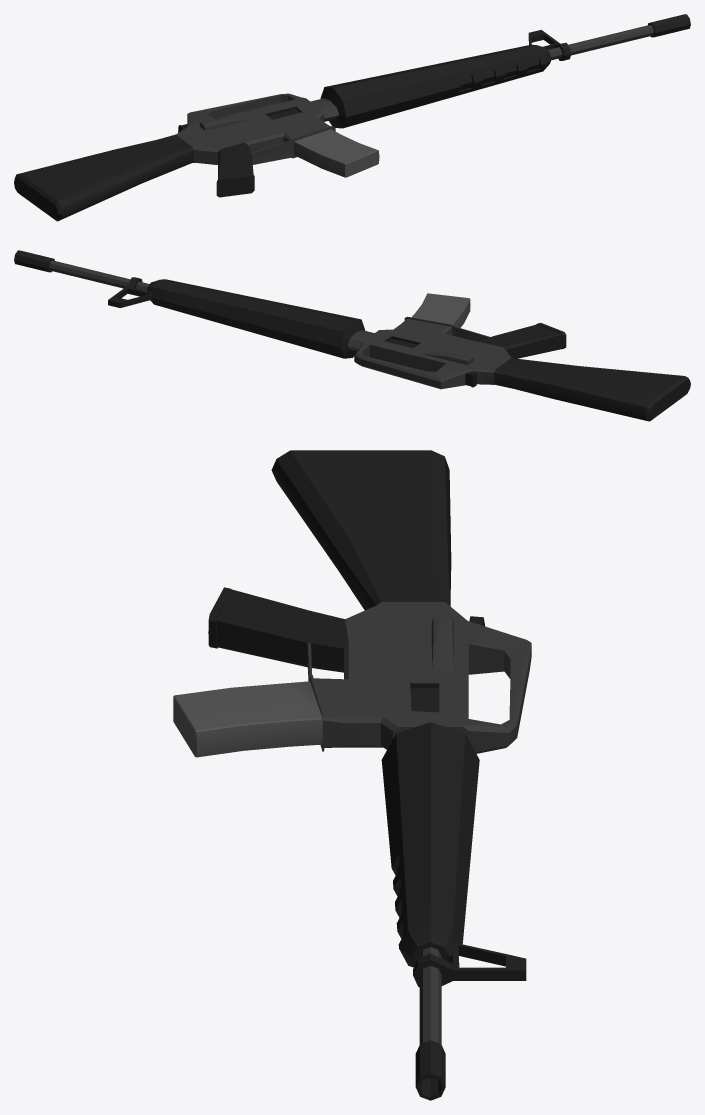
File: Western_auto_rifle_2.fbx
3 renders of one model, top to bottom at view 1: azimuth 30°, elevation 25°; view 2: azimuth 150°, elevation 25°; view 3: azimuth 270°, elevation 25°, orthographic. The views are drawn at different scales.
Visible parts, largest first — view 1: Western_auto_rifle_2, Western_auto_rifle_2.001; view 2: Western_auto_rifle_2, Western_auto_rifle_2.001; view 3: Western_auto_rifle_2, Western_auto_rifle_2.001.
Boxes of the visible parts, left/top/right/bottom form: Western_auto_rifle_2: left=14, top=14, right=690, bottom=221; Western_auto_rifle_2.001: left=294, top=129, right=379, bottom=177; Western_auto_rifle_2: left=14, top=250, right=690, bottom=421; Western_auto_rifle_2.001: left=411, top=293, right=470, bottom=327; Western_auto_rifle_2: left=208, top=450, right=531, bottom=1100; Western_auto_rifle_2.001: left=173, top=681, right=322, bottom=757.
Bounding box in the file's own units: 105 × 5.94 × 25.62.
1 material, 1 textured.
